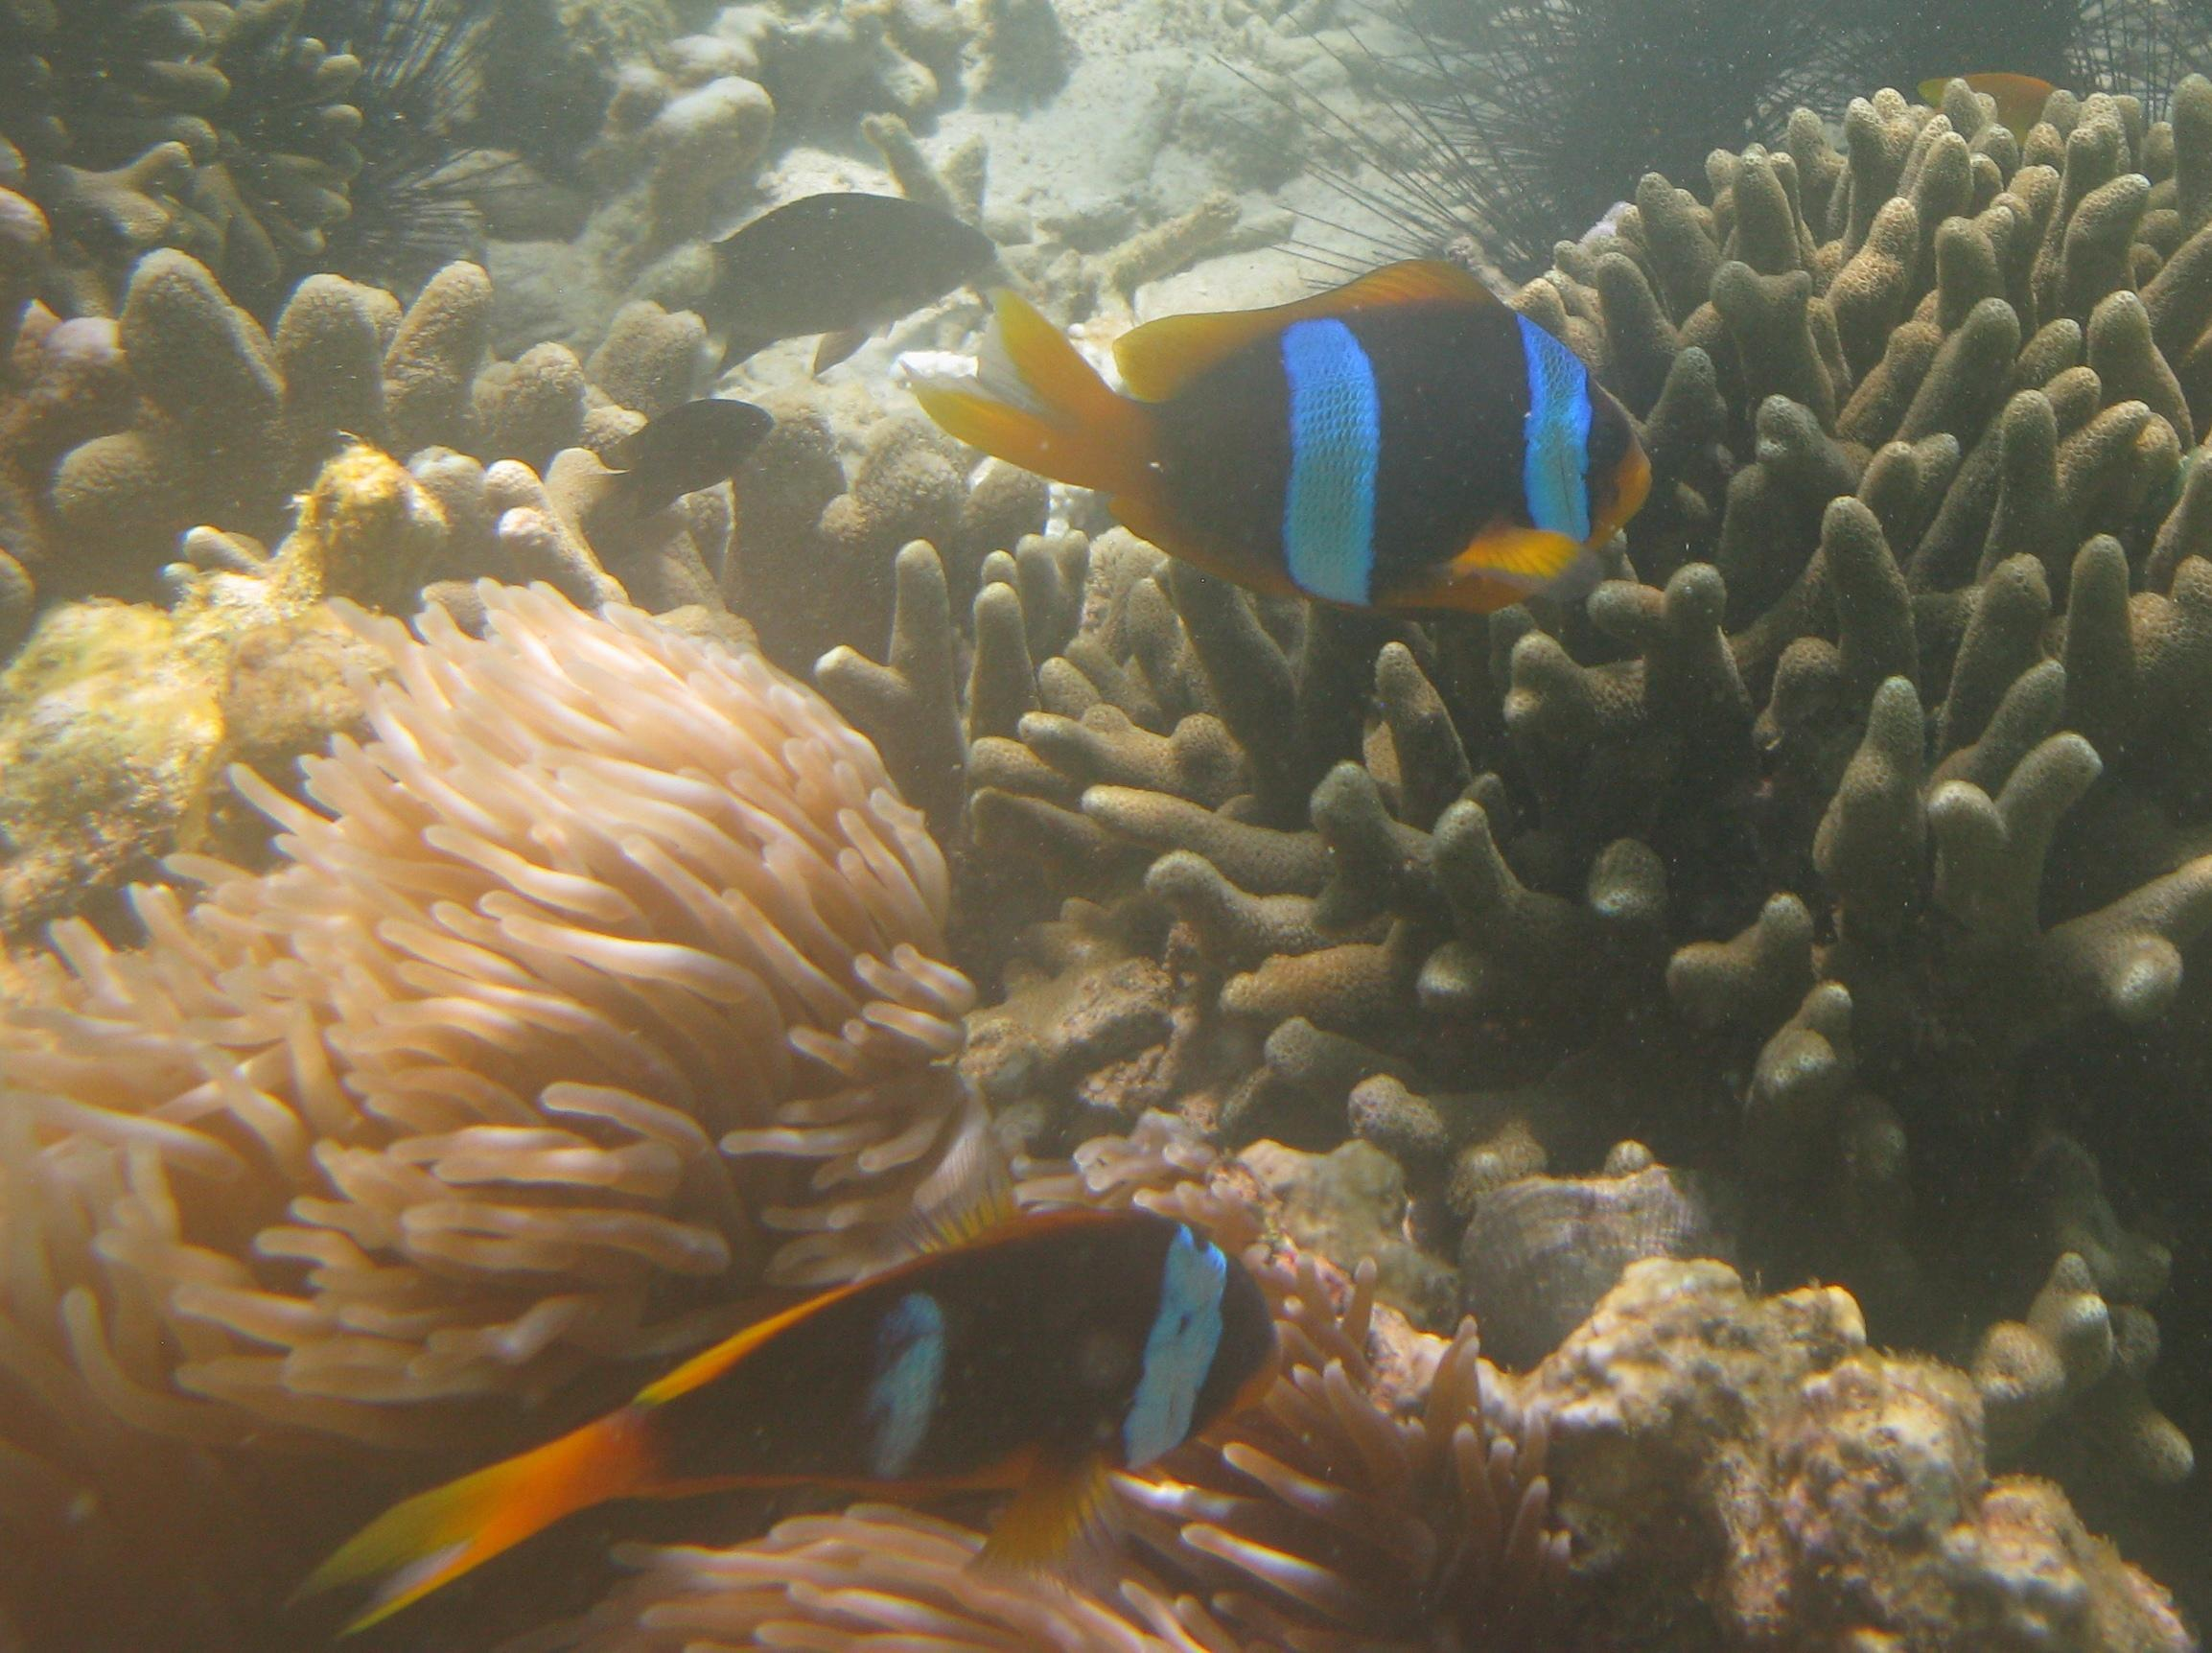Fish: (311, 1189, 1290, 1629), (877, 247, 1681, 629)
